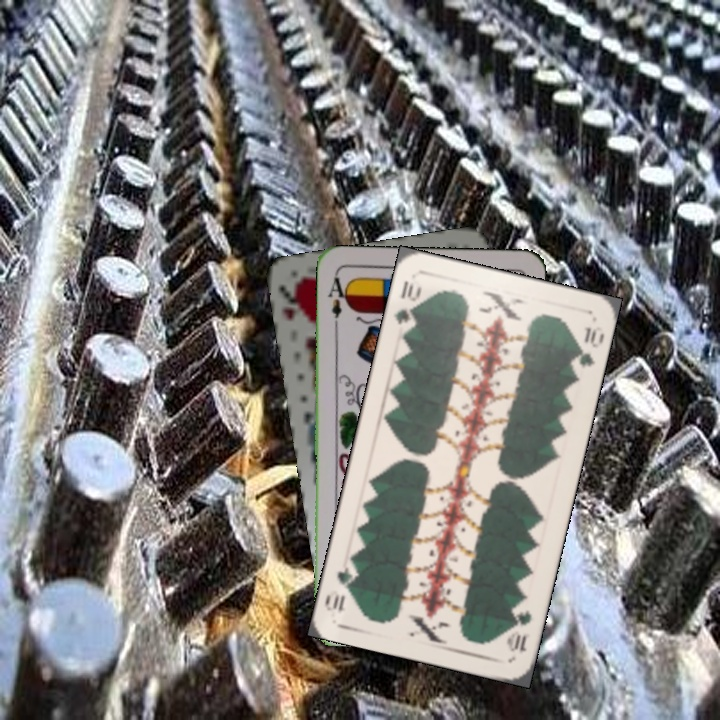EA: (324, 270, 351, 330)
G10: (503, 598, 535, 654), (390, 276, 424, 327)
HK: (275, 279, 307, 323)
